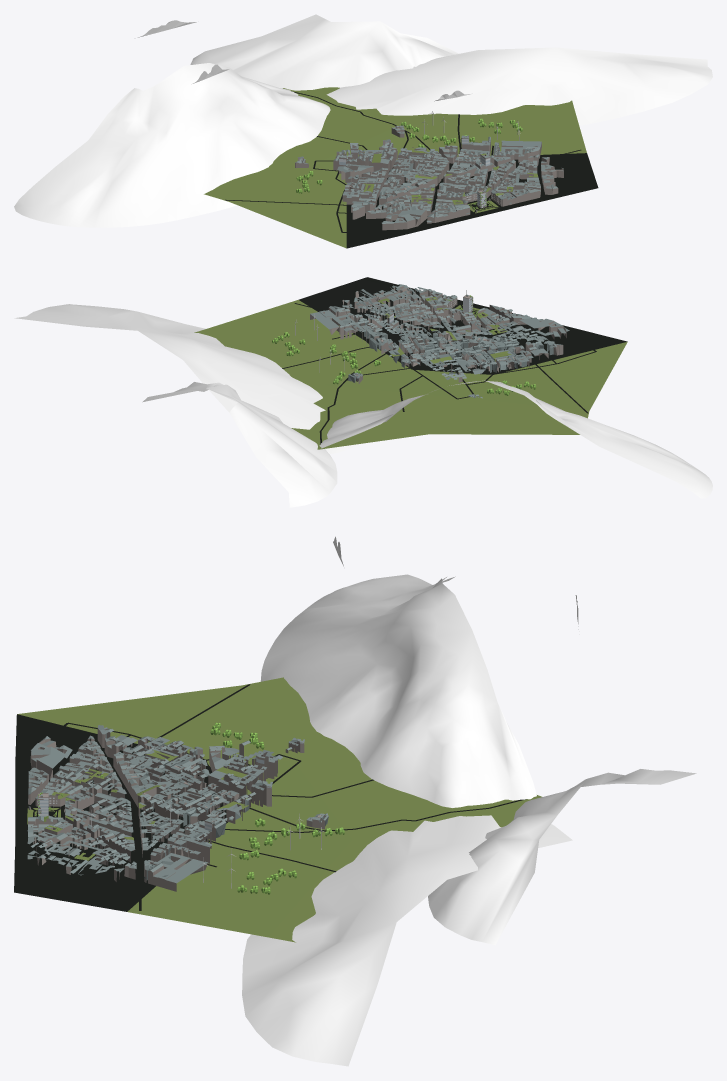
File: city.glb
3 renders of one model, top to bottom at view 1: azimuth 30°, elevation 25°; view 2: azimuth 150°, elevation 25°; view 3: azimuth 270°, elevation 25°, orthographic. The views are drawn at different scales.
Parts seen in each view (by area): view 1: Cone, Floor, Cone.001, Cone.002, map.osm_buildings.001, map.osm_buildings, map.osm_buildings.003, map.osm_buildings.002, map.osm_roads_residential, map.osm_roads_secondary; view 2: Floor, Cone.001, Cone.002, map.osm_buildings.001, Cone, map.osm_buildings, map.osm_buildings.003, map.osm_roads_residential, map.osm_buildings.002; view 3: Floor, Cone, Cone.001, map.osm_buildings.001, Cone.002, map.osm_buildings, map.osm_buildings.003, map.osm_roads_residential, map.osm_buildings.002.
Boxes of the visible parts, x1=… form: Cone: x1=14, y1=63, x2=330, y2=227; Floor: x1=204, y1=87, x2=598, y2=248; Cone.001: x1=326, y1=47, x2=712, y2=125; Cone.002: x1=190, y1=14, x2=458, y2=90; map.osm_buildings.001: x1=342, y1=125, x2=541, y2=219; map.osm_buildings: x1=366, y1=159, x2=540, y2=225; map.osm_buildings.003: x1=295, y1=135, x2=510, y2=182; map.osm_buildings.002: x1=382, y1=154, x2=563, y2=230; map.osm_roads_residential: x1=225, y1=91, x2=590, y2=238; map.osm_roads_secondary: x1=342, y1=186, x2=593, y2=239; Floor: x1=194, y1=277, x2=627, y2=449; Cone.001: x1=14, y1=304, x2=356, y2=454; Cone.002: x1=142, y1=382, x2=337, y2=507; map.osm_buildings.001: x1=310, y1=306, x2=563, y2=383; Cone: x1=319, y1=380, x2=712, y2=498; map.osm_buildings: x1=356, y1=287, x2=554, y2=343; map.osm_buildings.003: x1=340, y1=311, x2=488, y2=398; map.osm_roads_residential: x1=282, y1=283, x2=596, y2=444; map.osm_buildings.002: x1=342, y1=284, x2=569, y2=339; Floor: x1=14, y1=677, x2=541, y2=942; Cone: x1=260, y1=574, x2=536, y2=807; Cone.001: x1=242, y1=815, x2=572, y2=1066; map.osm_buildings.001: x1=97, y1=725, x2=328, y2=891; Cone.002: x1=428, y1=769, x2=696, y2=945; map.osm_buildings: x1=27, y1=735, x2=135, y2=867; map.osm_buildings.003: x1=138, y1=737, x2=304, y2=863; map.osm_roads_residential: x1=24, y1=684, x2=526, y2=910; map.osm_buildings.002: x1=27, y1=736, x2=136, y2=881.
Size of the model in its own units: 1630 by 282 by 999.
